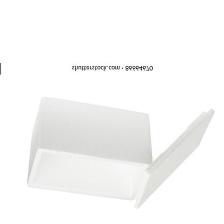foam_box: (23, 94, 218, 213)
